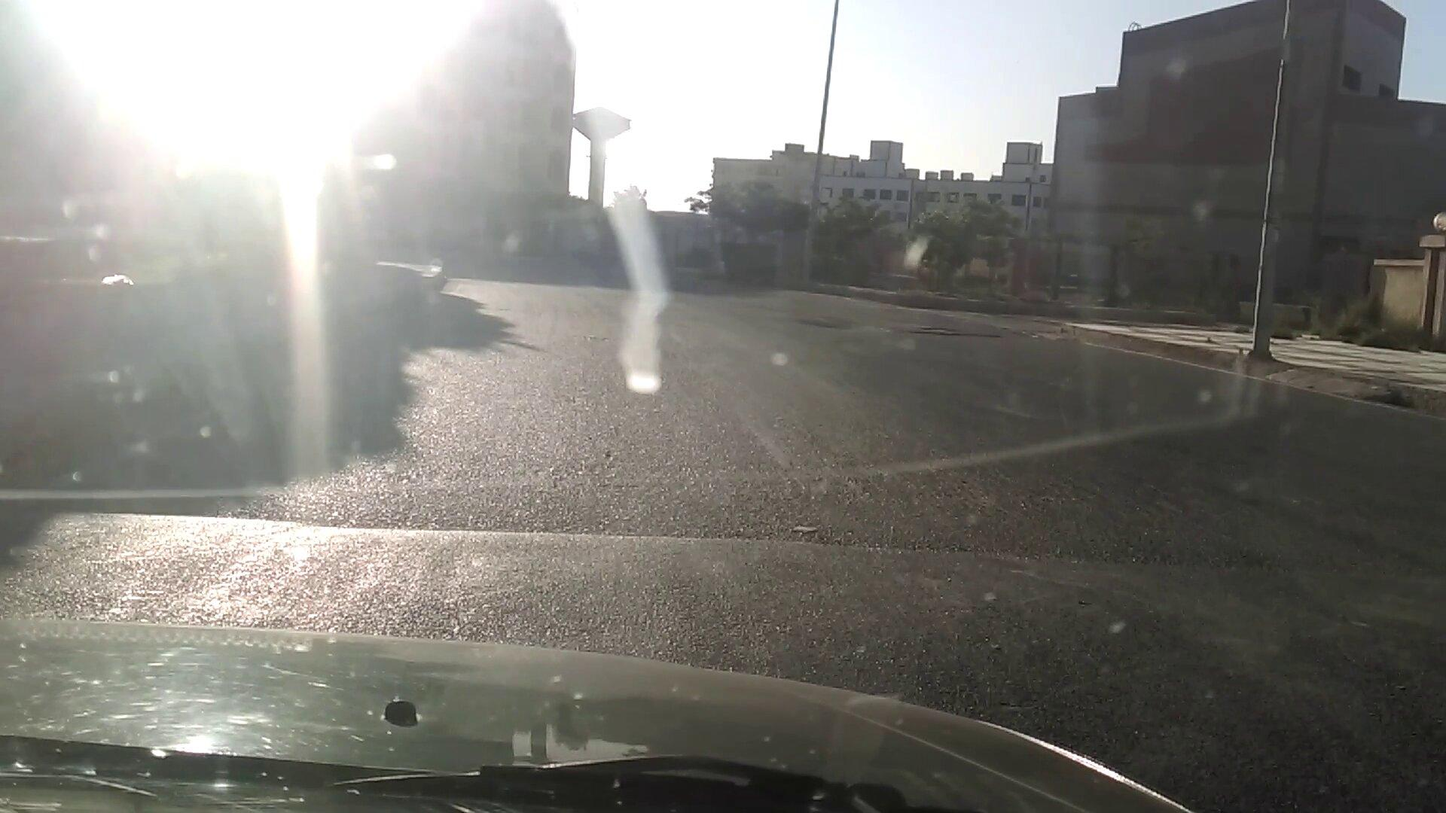Bump: (32, 512, 1446, 813)
